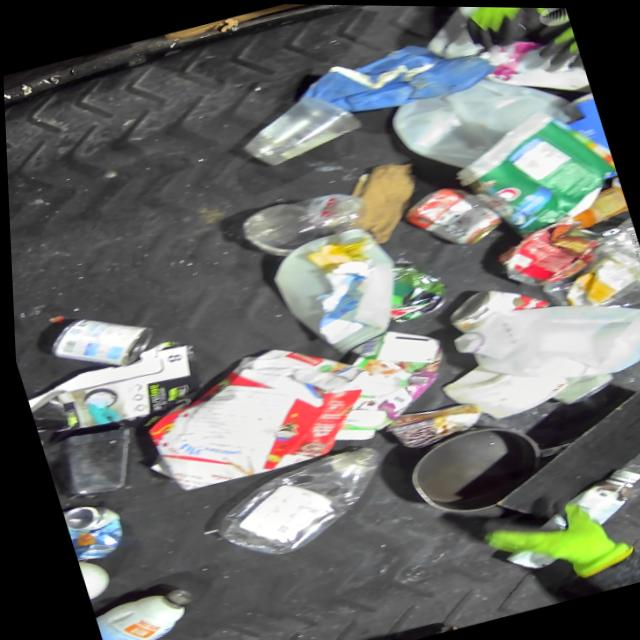can: (36, 297, 162, 382), (488, 206, 614, 291), (392, 170, 506, 258), (437, 269, 553, 337), (375, 389, 486, 455), (368, 250, 453, 325), (56, 494, 130, 564)
milk_jug: (438, 269, 640, 409), (381, 50, 589, 183)
non_white_jug: (195, 437, 401, 569)
